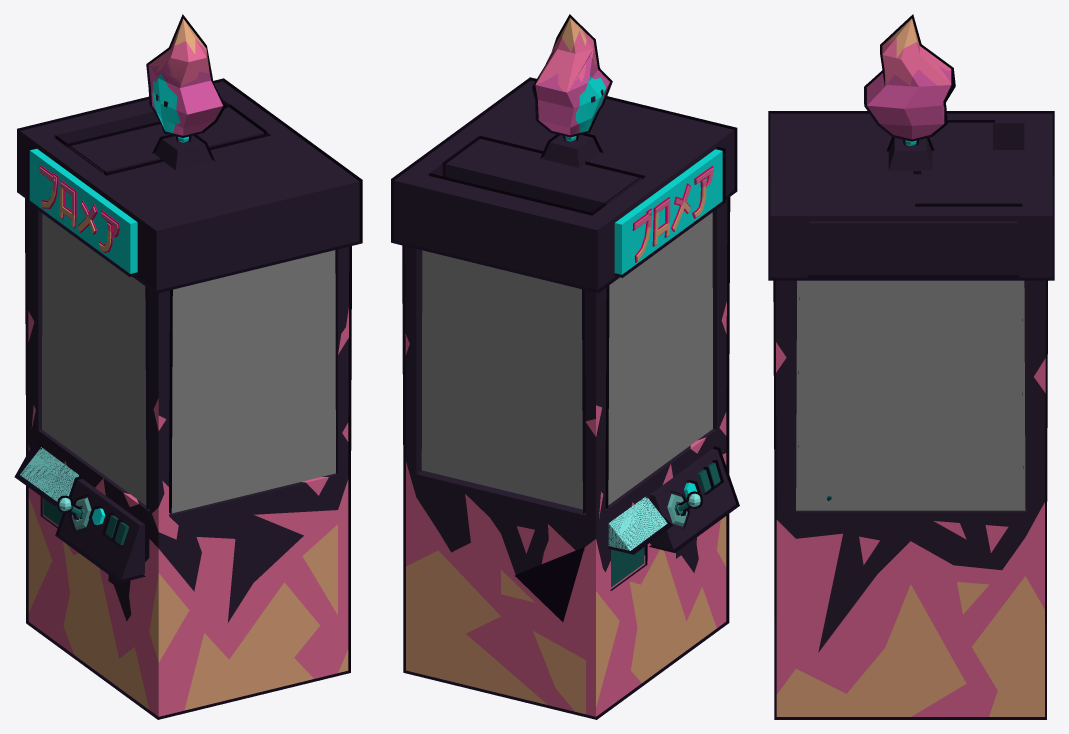
The model's file is claw machine final.fbx.
3 views of the same model, side by side, from view 1: azimuth 30°, elevation 25°; view 2: azimuth 150°, elevation 25°; view 3: azimuth 270°, elevation 25° (orthographic). The views are drawn at different scales.
Visible parts, largest first — view 1: top2 (×2), windows, top_deco1 (×2), pCube16 (×2), pCube10 (×2), pCube14, polySurface1 (×2), pCube15, polySurface2, polySurface3, joystick; view 2: top2 (×2), windows, pCube14 (×2), top_deco1 (×2), pCube16 (×2), pCube10 (×2), polySurface1 (×2), pCube15, polySurface2, pCube13, polySurface3, joystick; view 3: top2 (×2), windows, pCube16 (×2), top_deco1 (×2), pCube14, pCube15.
Part boxes in pixels (box(x1,y1,x2,y2)): top2 (×2): box(17, 78, 362, 719); windows: box(42, 213, 335, 513); top_deco1 (×2): box(146, 14, 225, 137); pCube16 (×2): box(27, 146, 137, 276); pCube10 (×2): box(55, 476, 145, 582); pCube14: box(68, 107, 263, 173); polySurface1 (×2): box(14, 440, 78, 505); pCube15: box(155, 135, 212, 170); polySurface2: box(39, 167, 118, 251); polySurface3: box(39, 165, 119, 252); joystick: box(59, 497, 91, 530); top2 (×2): box(391, 77, 737, 719); windows: box(421, 212, 712, 509); pCube14 (×2): box(442, 135, 644, 212); top_deco1 (×2): box(532, 14, 612, 137); pCube16 (×2): box(614, 146, 725, 277); pCube10 (×2): box(649, 446, 739, 552); polySurface1 (×2): box(608, 496, 672, 554); pCube15: box(543, 135, 600, 167); polySurface2: box(634, 167, 713, 261); pCube13: box(611, 547, 644, 587); polySurface3: box(632, 166, 713, 262); joystick: box(667, 493, 700, 526); top2 (×2): box(768, 111, 1054, 719); windows: box(796, 280, 1025, 510); pCube16 (×2): box(807, 221, 1019, 277); top_deco1 (×2): box(864, 14, 955, 141); pCube14: box(921, 123, 992, 203); pCube15: box(888, 137, 932, 170).
Size of the model in its own units: 4.04 by 10.1 by 4.
